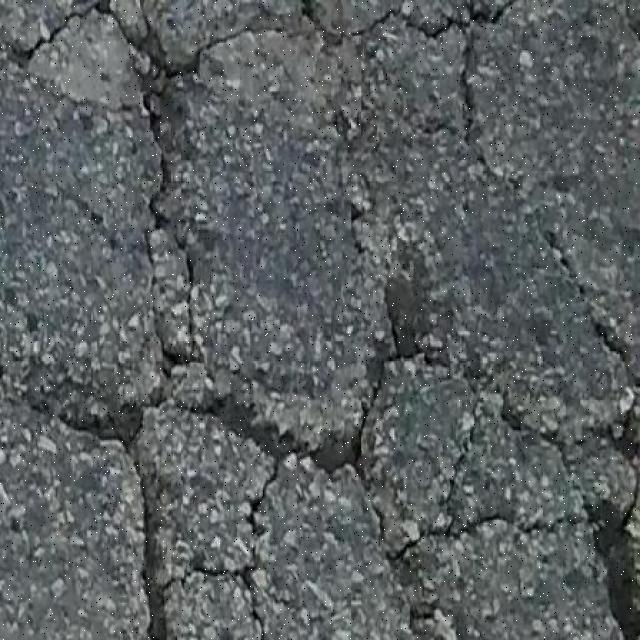Crack: (0, 0, 337, 639), (376, 11, 639, 473), (360, 245, 579, 478), (359, 470, 588, 639), (349, 44, 459, 272), (189, 402, 364, 471), (589, 494, 640, 638), (0, 38, 57, 70), (454, 430, 477, 496), (62, 5, 114, 34)
